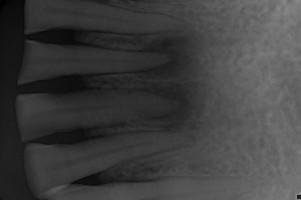Furcation Involvement: (139, 34, 194, 79), (143, 84, 191, 122)
